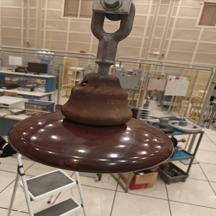insulator: (5, 68, 178, 182)
